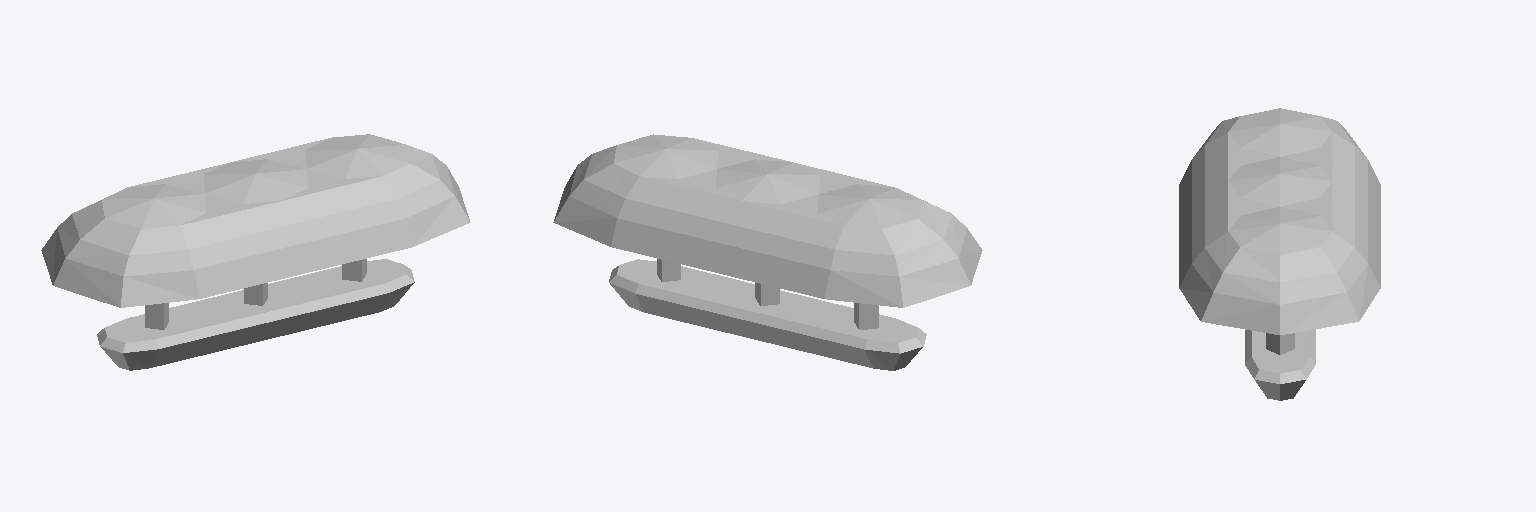
The model's file is Wide Spring.obj.
3 views of the same model, side by side, from view 1: azimuth 30°, elevation 25°; view 2: azimuth 150°, elevation 25°; view 3: azimuth 270°, elevation 25° (orthographic).
Parts seen in each view (by area): view 1: Mesh_0016, Mesh_0015; view 2: Mesh_0016, Mesh_0015; view 3: Mesh_0016, Mesh_0015.
Part boxes in pixels (x1,y1,x2,y2): Mesh_0016: (41,134,470,307); Mesh_0015: (97,259,414,370); Mesh_0016: (553,134,982,307); Mesh_0015: (609,259,926,370); Mesh_0016: (1179,108,1380,334); Mesh_0015: (1245,329,1315,400).
Size of the model in its own units: 3.98 by 1.54 by 1.71.